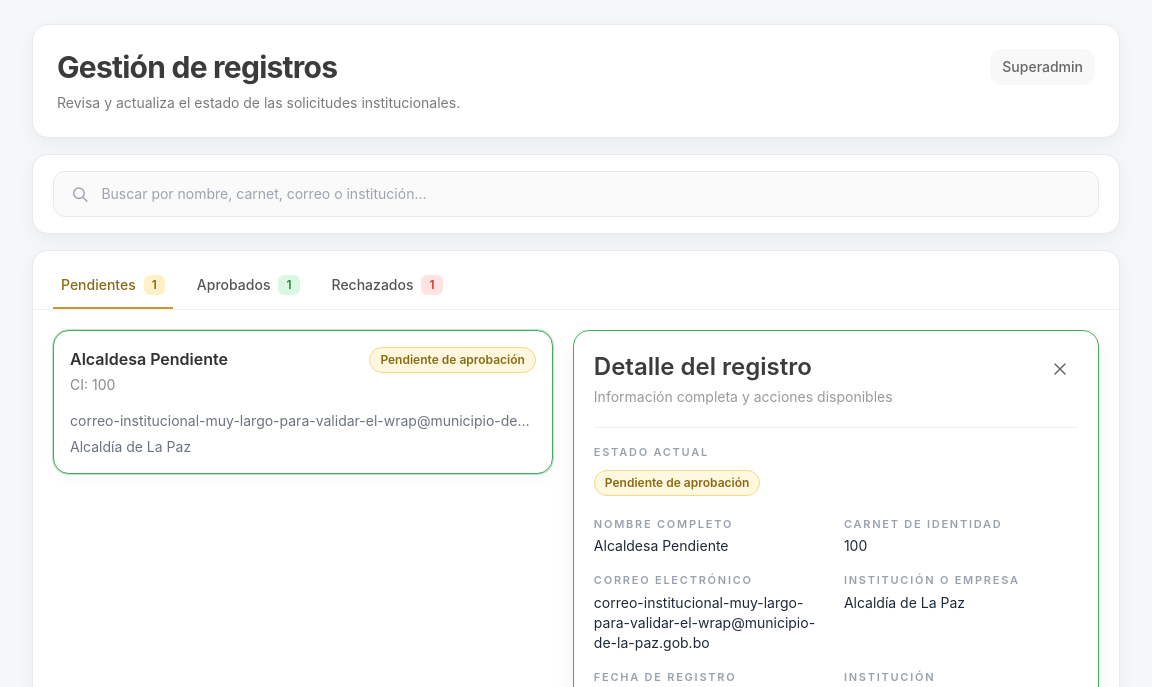
MX-10 | aprobaciones de acceso territorial › [MX-10][CON-ACC-P1-005][INTEGRACION] reabre una solicitud rechazada como pendiente desde el rol autorizado
The image size is (1152, 687).
Click the button "Rechazados 1" at (387, 286), box [324, 263, 451, 309]
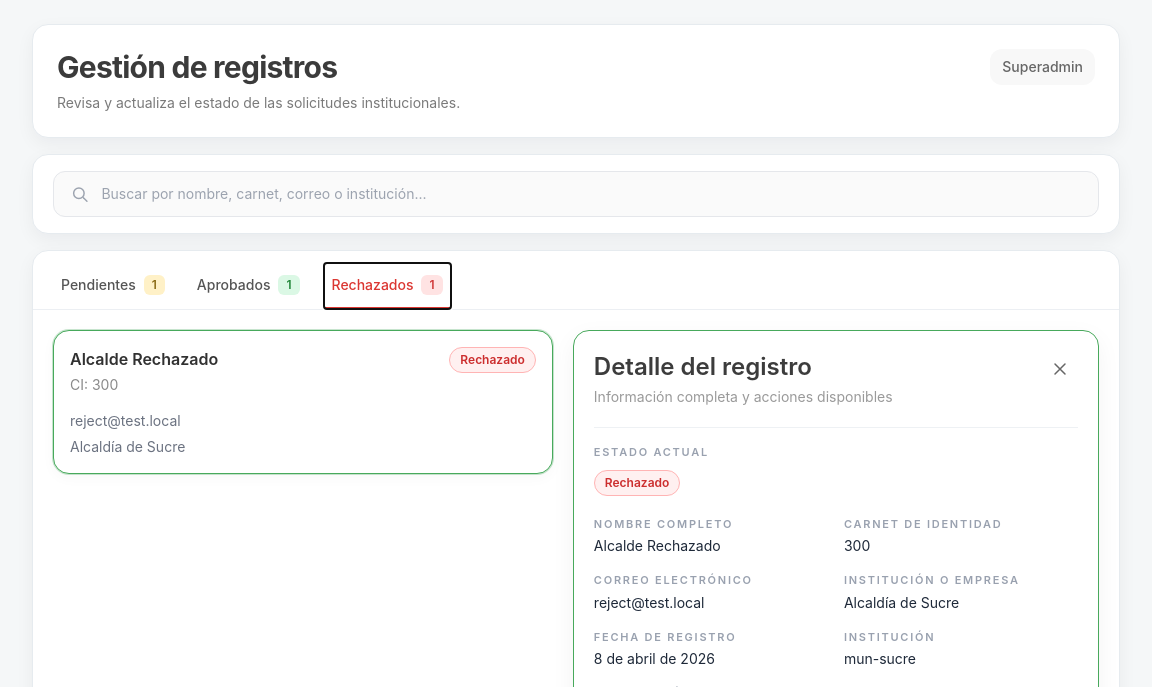
Click the button "Alcalde Rechazado" at (144, 359), box [53, 330, 553, 474]
(page scrolled)
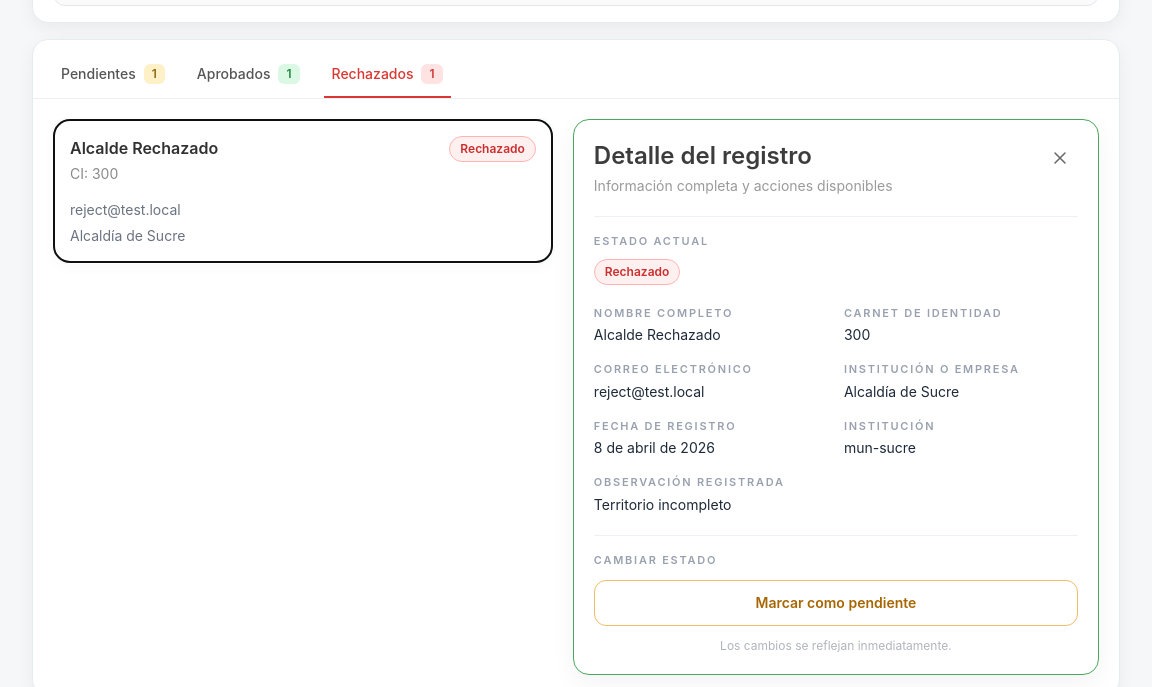
Click the button "Marcar como pendiente" at (836, 603), box [594, 580, 1078, 626]
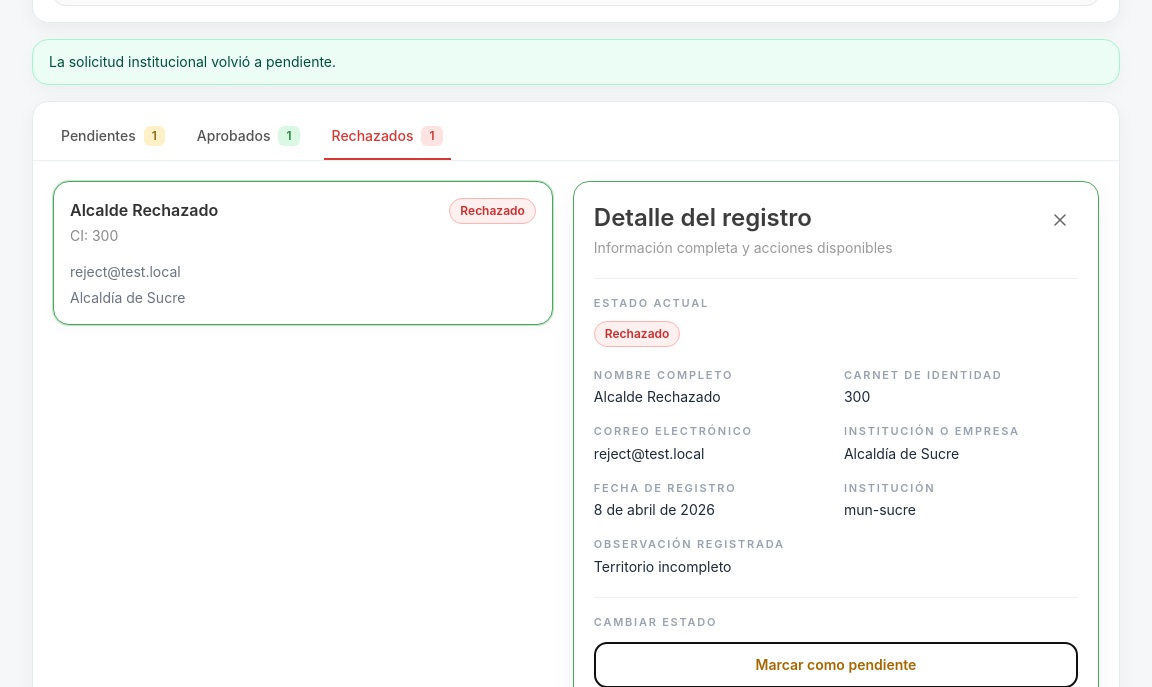
Expected: the text "La solicitud institucional volvió a pendiente." is shown, [32, 39, 1120, 85]
